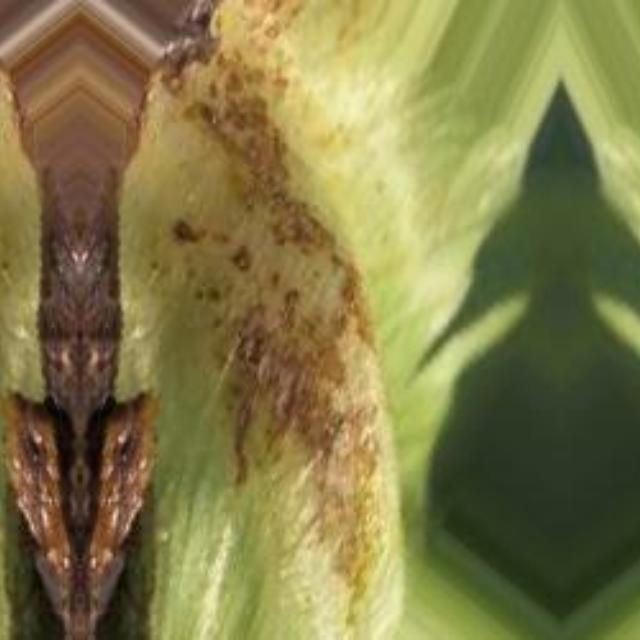Septoria_Blight: (168, 43, 384, 609)
